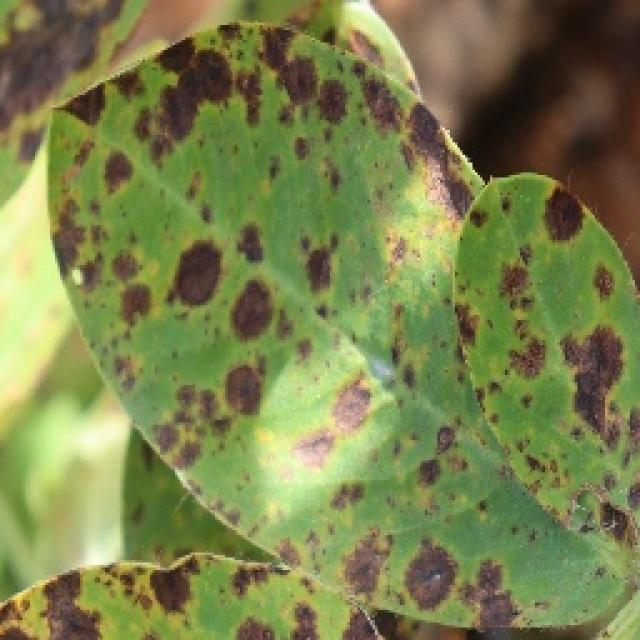Yellowish: (10, 0, 633, 615)
